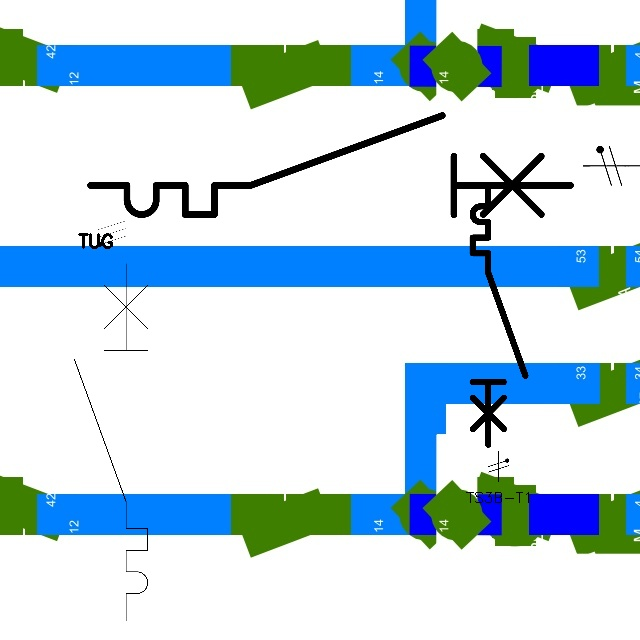interruptor_termomagnetico: (78, 103, 583, 227), (65, 254, 157, 629), (466, 180, 532, 451)
